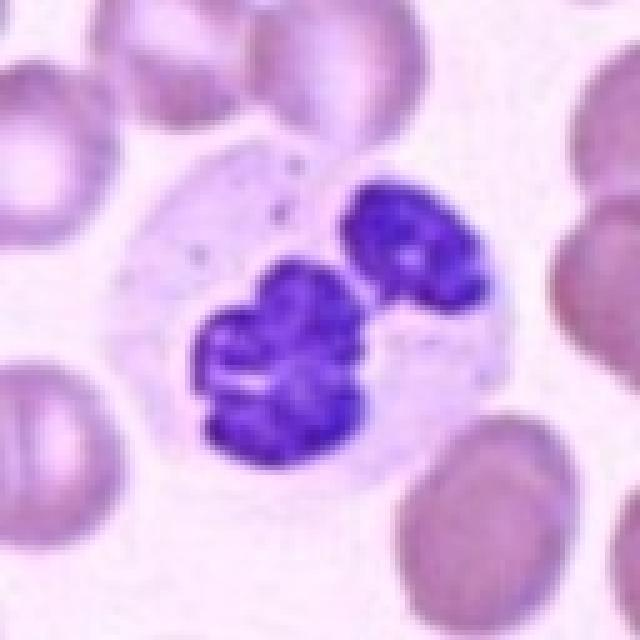neutro: (77, 130, 543, 510)
